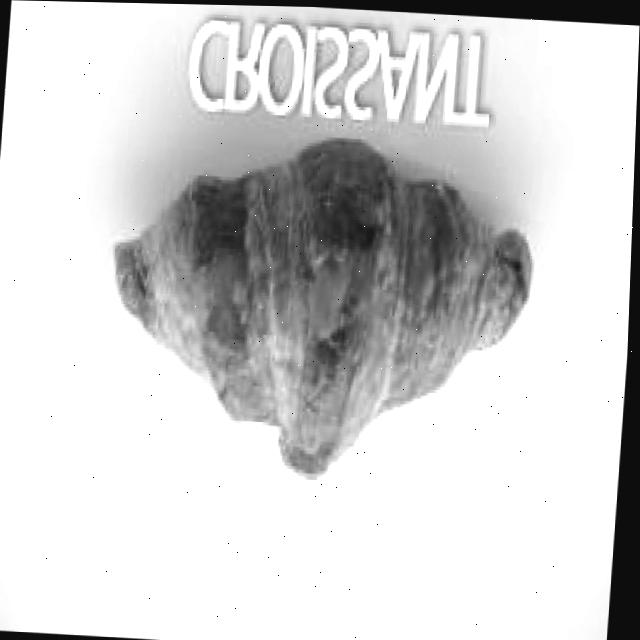面包点心: (93, 124, 548, 509)
